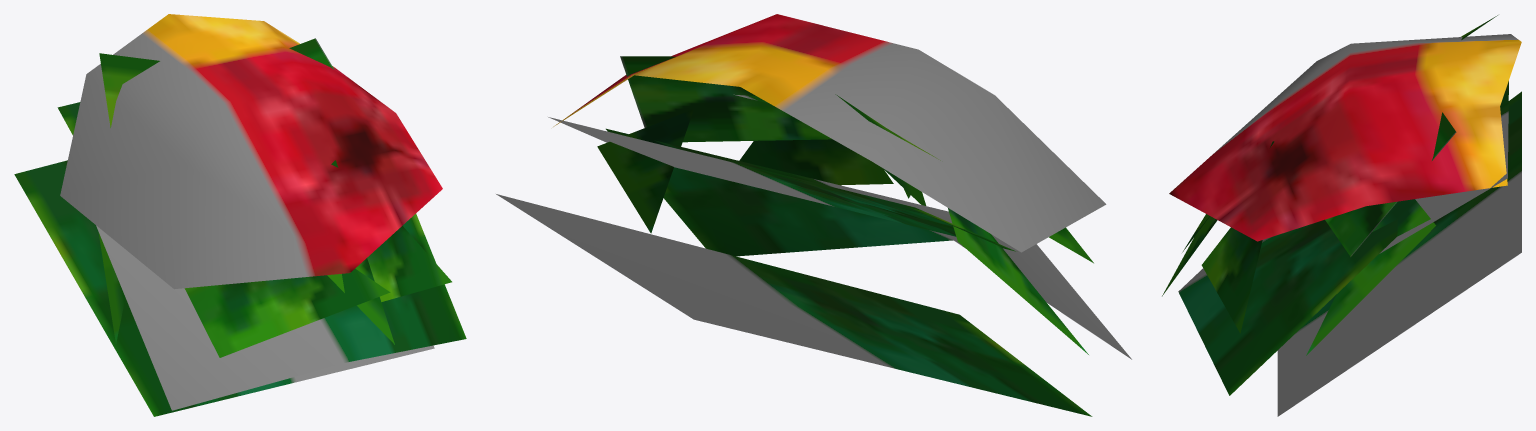
File: fg_bushA_2_s.dae
3 views of the same model, side by side, from view 1: azimuth 30°, elevation 25°; view 2: azimuth 150°, elevation 25°; view 3: azimuth 270°, elevation 25° (orthographic). The views are drawn at different scales.
Parts seen in each view (by area): view 1: fg_bushA_2_s; view 2: fg_bushA_2_s; view 3: fg_bushA_2_s.
Part boxes in pixels (x1,y1,x2,y2): fg_bushA_2_s: [14, 14, 466, 416]; fg_bushA_2_s: [496, 14, 1131, 416]; fg_bushA_2_s: [1162, 15, 1521, 416].
Size of the model in its own units: 42.31 by 35.32 by 38.65.
1 material, 1 textured.
